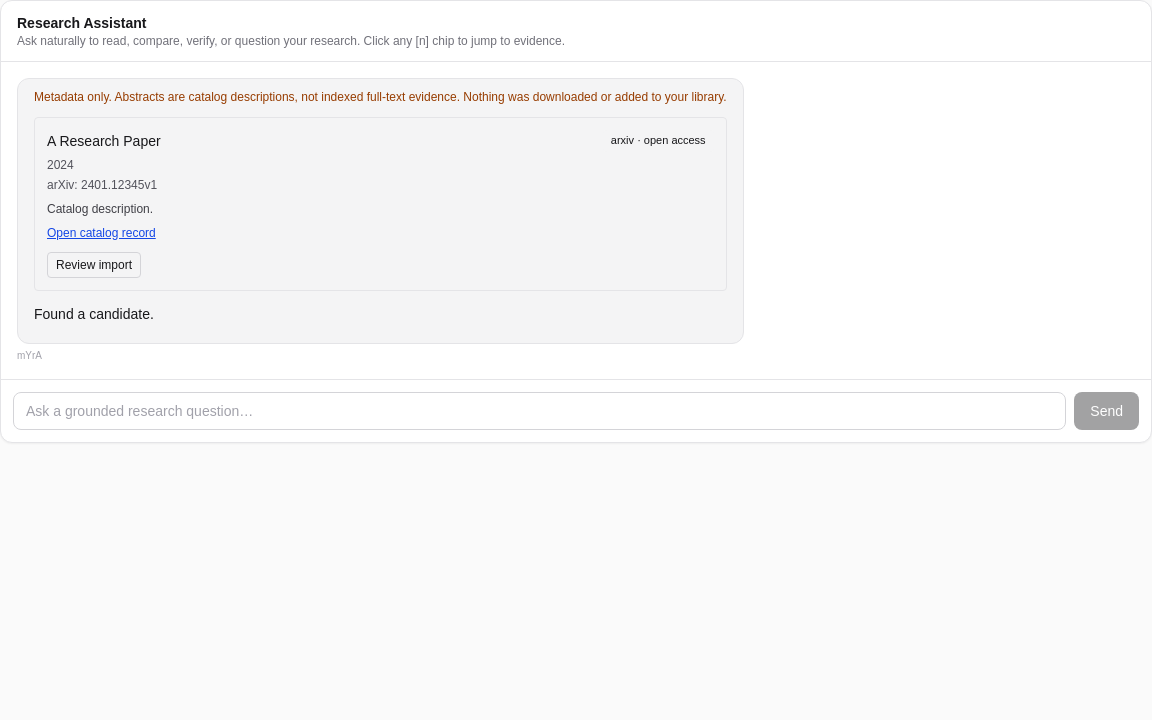
Scenario: ChatPanel › requires a separate approval click before importing a discovery result
Click the button "Review import": (94, 264) x1=47 y1=252 x2=141 y2=278
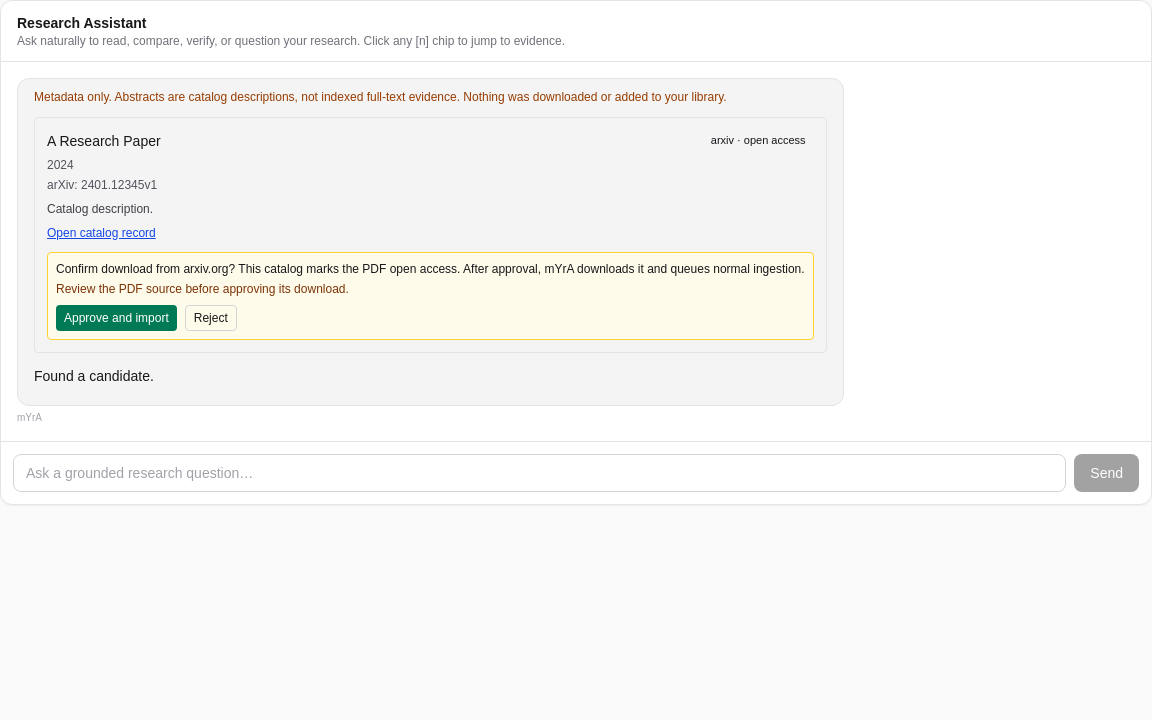
Expected: the text "Confirm download from arxiv.org" is shown, x1=56 y1=260 x2=805 y2=276
Click the button "Approve and import": (116, 318) x1=56 y1=304 x2=177 y2=330
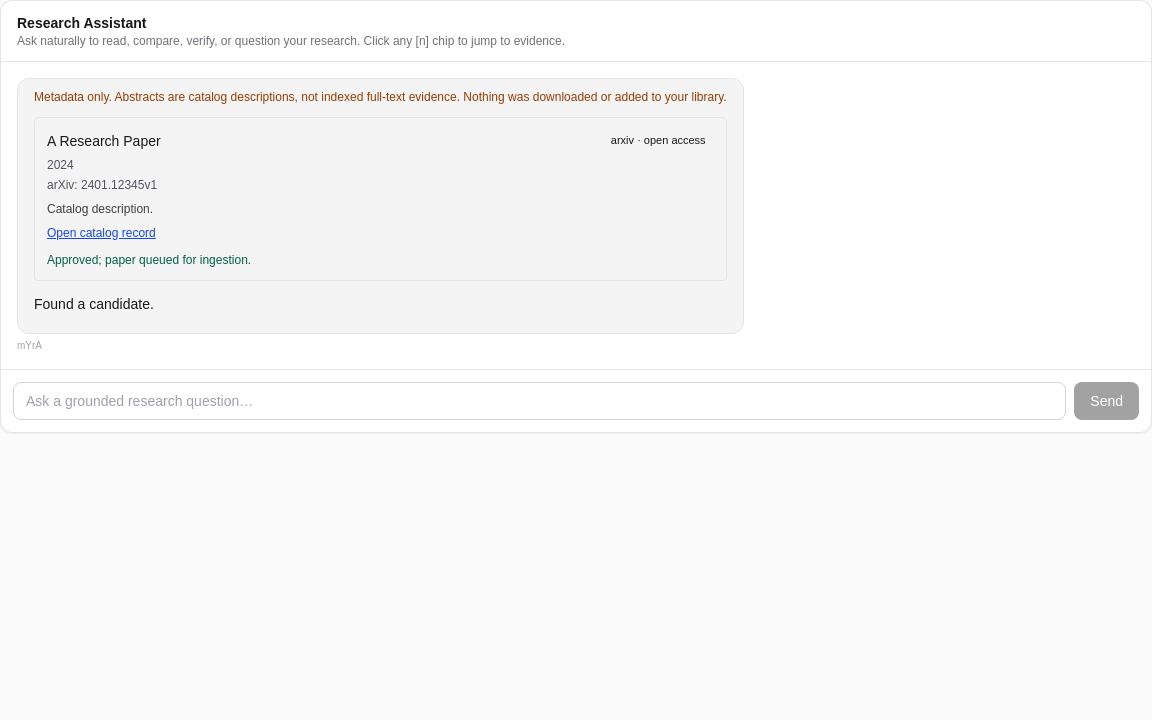
Expected: the text "Approved; paper queued for ingestion." is shown, x1=47 y1=252 x2=251 y2=266
